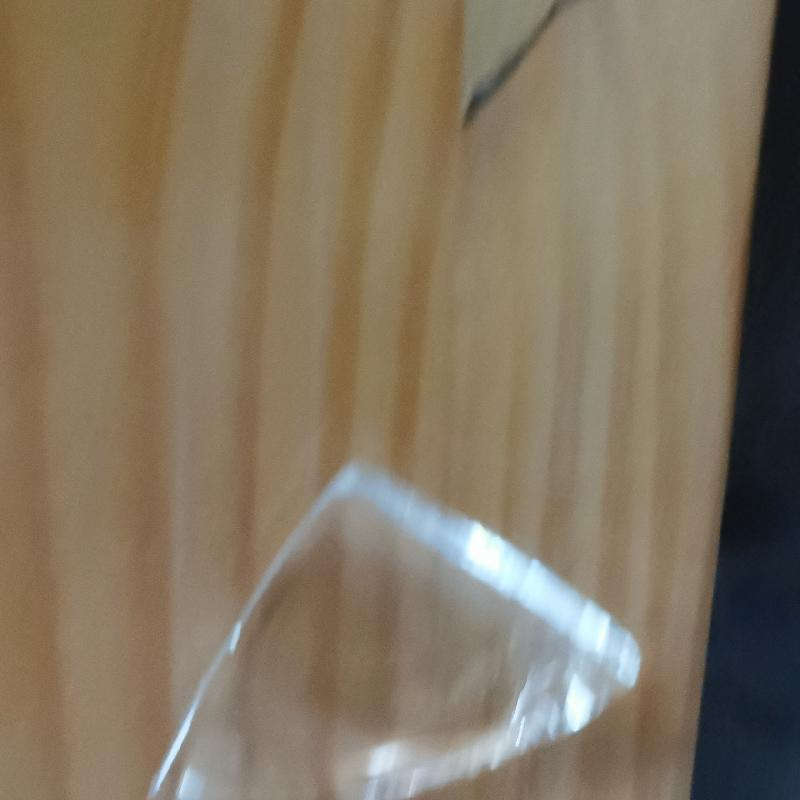glass: (142, 457, 434, 800)
